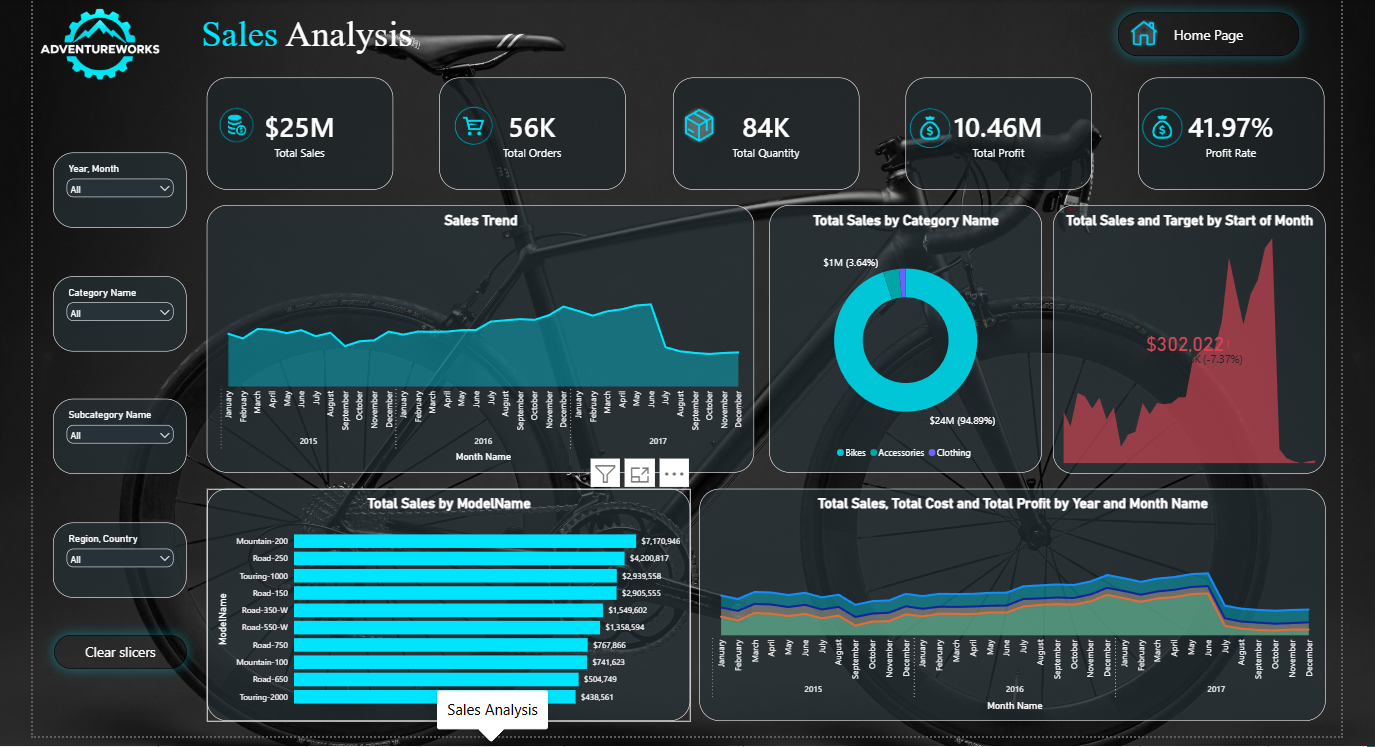

The page's visual inventory and layout, read from the dashboard file:
{"tool":"powerbi","page":{"name":"Sales Analysis","canvas":[1920,1080],"ordinal":2},"visuals":[{"type":"textbox","box":[242.1,14.7,438.4,71.5],"z":0},{"type":"image","box":[0,0,196.3,128.4],"z":1000},{"type":"slicer","fields":{"Values":["Calendar Table.Year","Calendar Table.Month Name"]},"box":[29.3,223.8,196.3,110.1],"z":2000},{"type":"slicer","fields":{"Values":["Product_Categories.CategoryName"]},"box":[29.3,404.8,196.3,110.1],"z":3000},{"type":"slicer","fields":{"Values":["Territories.Region","Territories.Country"]},"box":[29.3,766.7,196.3,110.1],"z":4000},{"type":"slicer","fields":{"Values":["Product_Subcategories.SubcategoryName"]},"box":[29.3,585.7,196.3,110.1],"z":5000},{"type":"actionButton","box":[31.2,931.8,194.4,49.5],"z":6000},{"type":"actionButton","box":[1592.1,18.3,266,64.2],"z":7000},{"type":"cardVisual","fields":{"Data":["Sales.Total Sales"]},"box":[255,113.7,273.3,165.1],"z":8000},{"type":"cardVisual","fields":{"Data":["Sales.Total Orders"]},"box":[596.6,113.7,273.3,165.1],"z":9000},{"type":"cardVisual","fields":{"Data":["Sales.Total Profit"]},"box":[1279.8,113.7,273.3,165.1],"z":10000},{"type":"cardVisual","fields":{"Data":["Sales.Profit %"]},"box":[1621.5,113.7,273.3,165.1],"z":11000},{"type":"cardVisual","fields":{"Data":["Sales.Total Qty"]},"box":[938.2,113.7,273.3,165.1],"z":12000},{"type":"image","box":[594.3,135.7,115.6,95.4],"z":13000},{"type":"image","box":[1263.8,143.1,116.2,94.5],"z":14000},{"type":"image","box":[1605,141.2,115.6,95.4],"z":15000},{"type":"image","box":[939.1,143.1,77,80.7],"z":16000},{"type":"image","box":[242.1,135.7,116.2,94.5],"z":17000},{"type":"lineChart","title":"Sales Trend","fields":{"Category":["Calendar Table.Year","Calendar Table.Month Name"],"Y":["Sales.Total Sales"]},"box":[255,300.8,803.4,392.5],"z":18000},{"type":"donutChart","title":"Total Sales by Category Name","fields":{"Category":["Product_Categories.CategoryName"],"Y":["Sales.Total Sales"]},"box":[1080.4,300.8,399.9,392.5],"z":19000},{"type":"barChart","fields":{"Category":["Products.ModelName"],"Y":["Sales.Total Sales"]},"box":[255,717.2,709.9,341.2],"z":20000},{"type":"lineChart","fields":{"Category":["Calendar Table.Year","Calendar Table.Month Name"],"Y":["Sales.Total Sales","Sales.Total Cost","Sales.Total Profit"]},"box":[977.7,717.2,919,341.2],"z":21000},{"type":"kpi","fields":{"Goal":["Sales.Target"],"Indicator":["Sales.Total Sales"],"TrendLine":["Calendar Table.Start of Month"]},"box":[1496.7,300.8,399.9,394.4],"z":22000},{"type":"image","box":[1592.1,18.3,77,58.7],"z":22001}]}

Visuals, with their boxes on the page's 1920x1080 design canvas (x1, y1, x2, y2). These are canvas units, not pixel positions in the 1375x747 screenshot, which may show the page scaled, cropped or inside an application window:
textbox: 242/15/680/86
image: 0/0/196/128
slicer - Calendar Table.Year x Calendar Table.Month Name: 29/224/226/334
slicer - Product_Categories.CategoryName: 29/405/226/515
slicer - Territories.Region x Territories.Country: 29/767/226/877
slicer - Product_Subcategories.SubcategoryName: 29/586/226/696
actionButton: 31/932/226/981
actionButton: 1592/18/1858/82
cardVisual - Sales.Total Sales: 255/114/528/279
cardVisual - Sales.Total Orders: 597/114/870/279
cardVisual - Sales.Total Profit: 1280/114/1553/279
cardVisual - Sales.Profit %: 1622/114/1895/279
cardVisual - Sales.Total Qty: 938/114/1212/279
image: 594/136/710/231
image: 1264/143/1380/238
image: 1605/141/1721/237
image: 939/143/1016/224
image: 242/136/358/230
"Sales Trend" lineChart: 255/301/1058/693
"Total Sales by Category Name" donutChart: 1080/301/1480/693
barChart - Products.ModelName x Sales.Total Sales: 255/717/965/1058
lineChart - Calendar Table.Year x Calendar Table.Month Name: 978/717/1897/1058
kpi - Sales.Target x Sales.Total Sales: 1497/301/1897/695
image: 1592/18/1669/77
